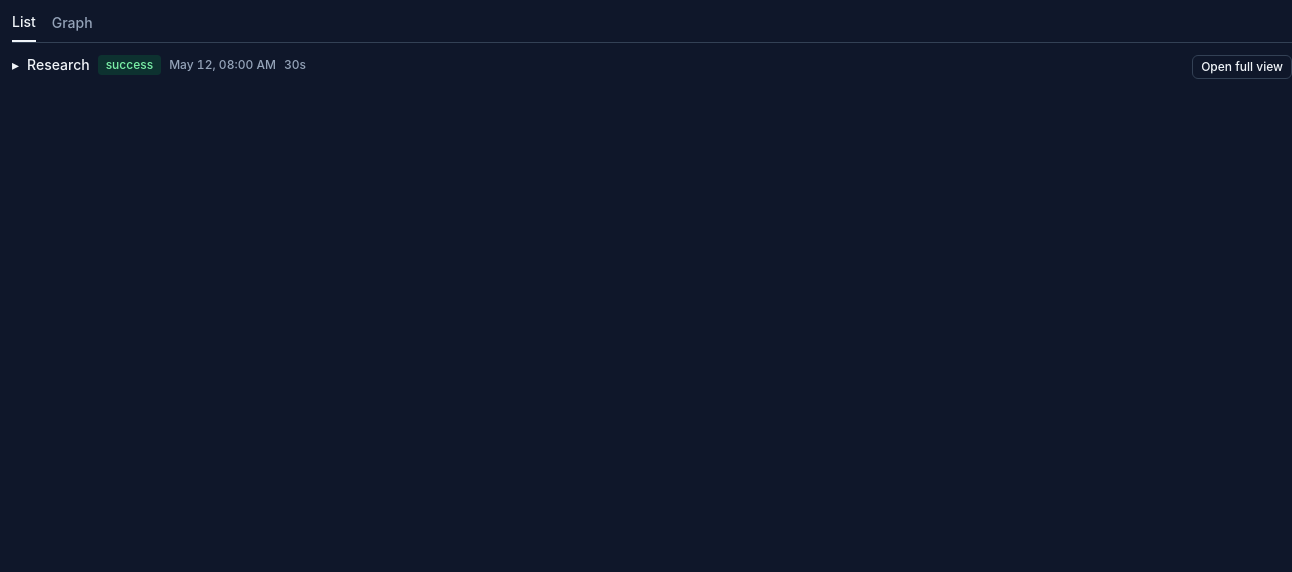
RunsSection › mounts the graph only after selecting the Graph tab, and returns to the list when List is reselected
The width and height of the screenshot is (1292, 572).
Check: the list with test id "runs-list" is shown, box [12,55,1291,79]
Click the tab "Graph".
click(72, 27)  # box [52,12,93,42]
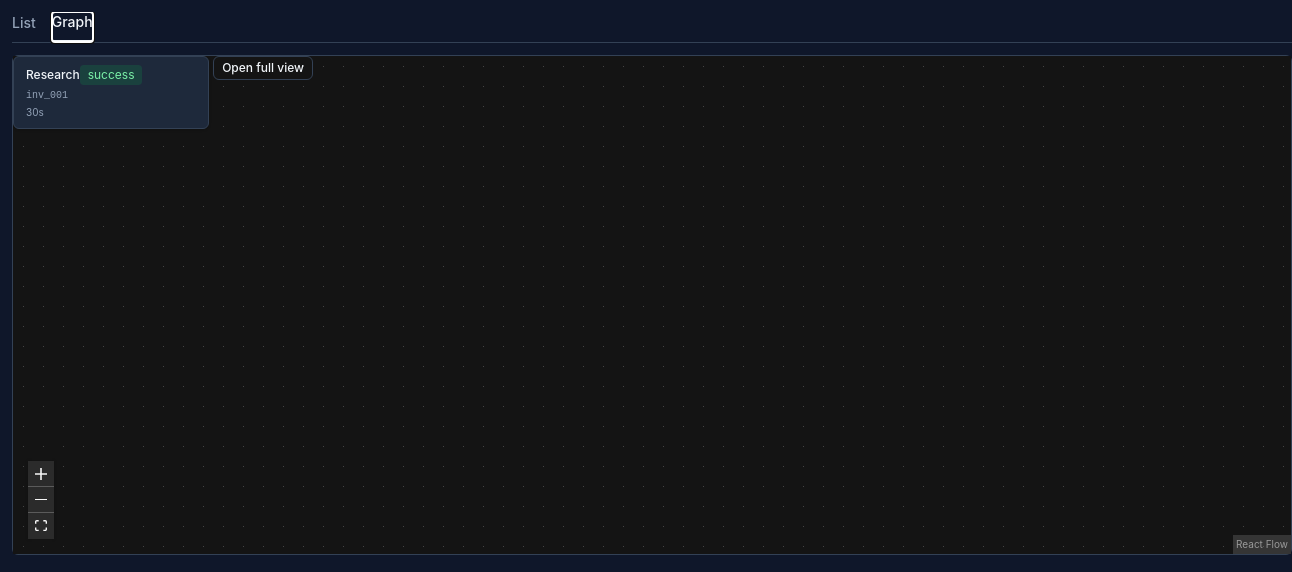
Check: the element with test id "invocation-graph" is shown
Check: the list with test id "runs-list" is gone
Click the tab "List".
click(24, 27)  # box [12,12,36,42]
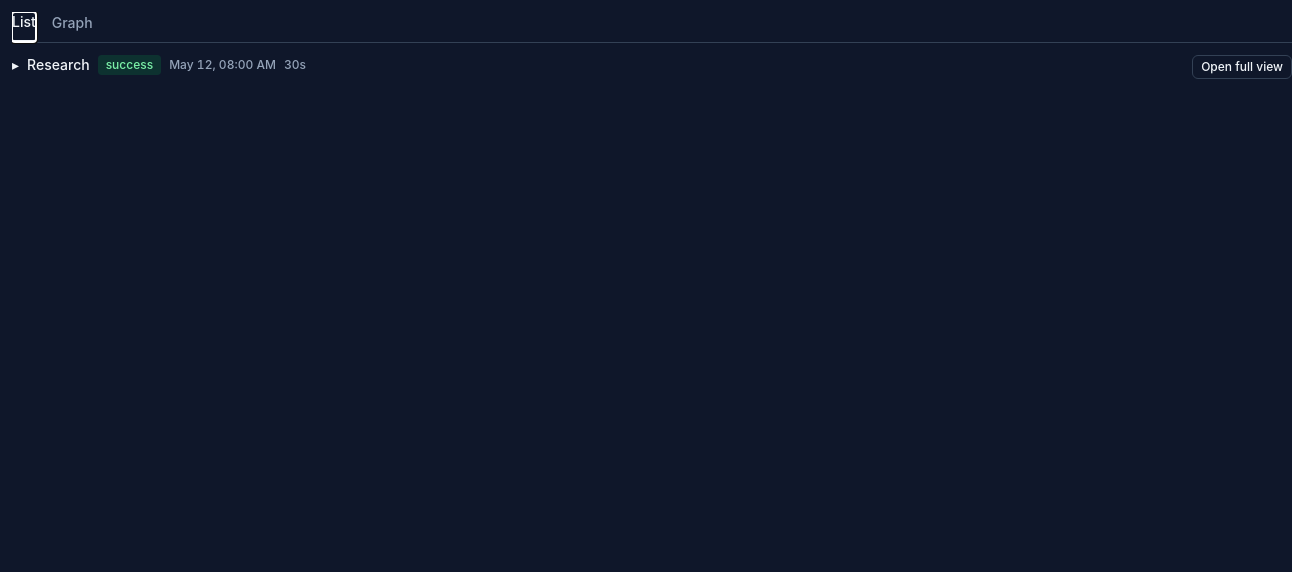
Check: the list with test id "runs-list" is shown, box [12,55,1291,79]
Check: the element with test id "invocation-graph" is gone
